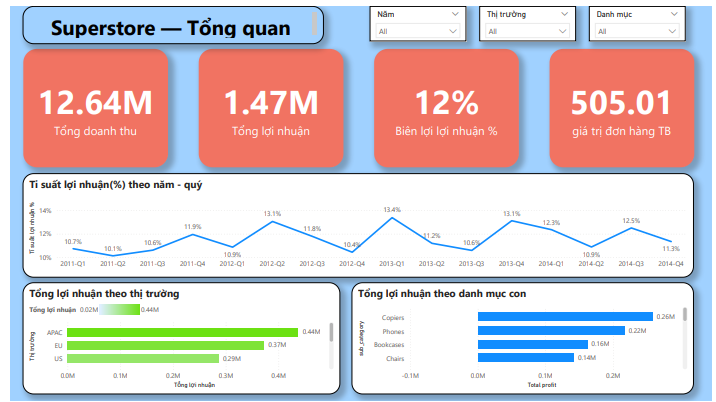

The dashboard page shown, as its layout file describes it:
{"tool":"powerbi","page":{"name":"Tổng Quan","canvas":[1280,720],"ordinal":0},"visuals":[{"type":"card","fields":{"Values":["_measure.Total sales"]},"box":[23.6,78.3,264,216],"z":0},{"type":"card","fields":{"Values":["_measure.Total profit"]},"box":[343.6,78.3,264,216],"z":1000},{"type":"card","fields":{"Values":["_measure.Profit margin %"]},"box":[663.6,78.3,264,216],"z":2000},{"type":"card","fields":{"Values":["_measure.AOV"]},"box":[983.6,78.3,264,216],"z":3000},{"type":"lineChart","title":"Tỉ suất lợi nhuận(%) theo năm - quý","fields":{"Y":["_measure.Profit margin %"],"Category":["DimDate.Year-Quarter"]},"box":[23.3,304.6,1224,190.7],"z":4000},{"type":"clusteredBarChart","title":"Tổng lợi nhuận theo thị trường","fields":{"Y":["_measure.Total profit"],"Category":["orders.market"]},"box":[23.3,503.6,579.1,204.5],"z":5000},{"type":"clusteredBarChart","title":"Tổng lợi nhuận theo danh mục con","fields":{"Y":["_measure.Total profit"],"Category":["orders.sub_category"]},"box":[623,503.6,624.4,204.5],"z":6000},{"type":"textbox","box":[23.3,0,548.9,68.6],"z":7000},{"type":"slicer","fields":{"Values":["DimDate.Year"]},"box":[656,0,176,64],"z":8000},{"type":"slicer","fields":{"Values":["orders.market"]},"box":[856,0,176,64],"z":9000},{"type":"slicer","fields":{"Values":["orders.category"]},"box":[1056,0,176,64],"z":10000}]}

Visuals, with their boxes in screenshot pixels (x1, y1, x2, y2), scaled from the page's 1280x720 canvas onto the 716x402 screenshot:
card - _measure.Total sales: bbox=[13, 44, 161, 164]
card - _measure.Total profit: bbox=[192, 44, 340, 164]
card - _measure.Profit margin %: bbox=[371, 44, 519, 164]
card - _measure.AOV: bbox=[550, 44, 698, 164]
"Tỉ suất lợi nhuận(%) theo năm - quý" lineChart: bbox=[13, 170, 698, 277]
"Tổng lợi nhuận theo thị trường" clusteredBarChart: bbox=[13, 281, 337, 395]
"Tổng lợi nhuận theo danh mục con" clusteredBarChart: bbox=[348, 281, 698, 395]
textbox: bbox=[13, 0, 320, 38]
slicer - DimDate.Year: bbox=[367, 0, 465, 36]
slicer - orders.market: bbox=[479, 0, 577, 36]
slicer - orders.category: bbox=[591, 0, 689, 36]
